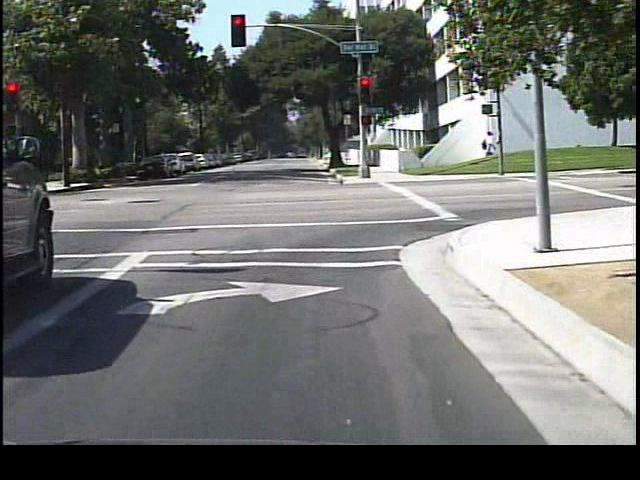person: (475, 128, 499, 173)
